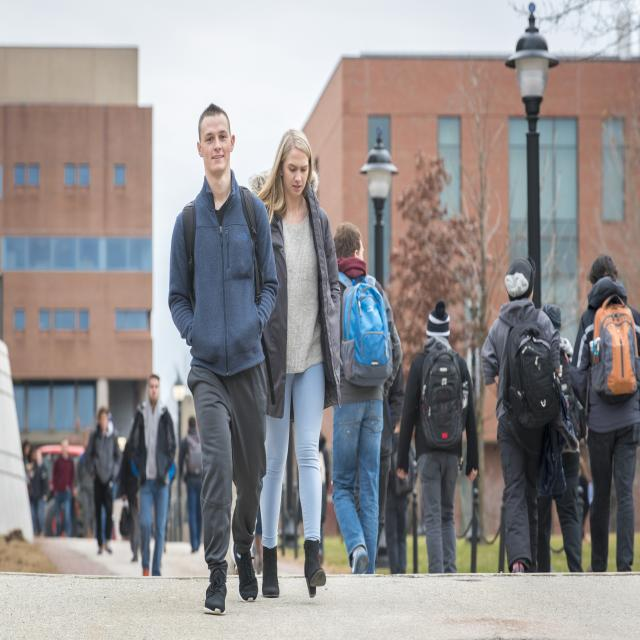body: (166, 93, 282, 624), (248, 126, 344, 603), (479, 256, 563, 574), (568, 248, 640, 611), (331, 221, 404, 574), (397, 298, 479, 574), (366, 349, 412, 590), (128, 374, 176, 576), (111, 452, 177, 562), (84, 406, 125, 556), (384, 422, 419, 576), (118, 411, 143, 563), (177, 416, 204, 554), (20, 438, 52, 539), (77, 433, 105, 546), (52, 437, 75, 538), (315, 430, 331, 573), (540, 302, 574, 365)
